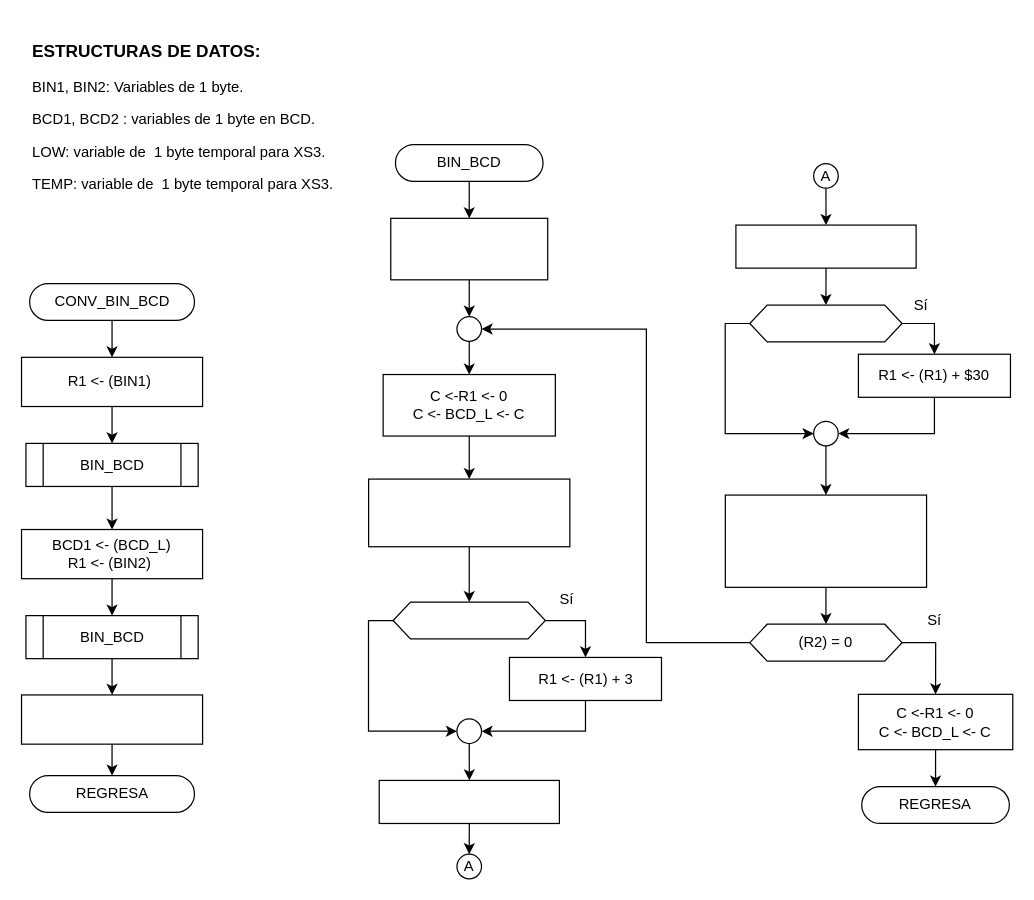
Image size: 1034x900. Some labels were removed from this diagram. The centre of each missing label's shape, as x and y in pixels:
(R1) >= $50: (825,323)
(R1) >= 5: (468,620)
BCD2 <- (BCD_L): (111,719)
LOW <- R1: (468,801)
R1 <- (BCD_L) && $F0: (825,246)
R1 <- (R1) + LOW BCD_L <- (R1) R1 <- (TEMP) R2 <- (R2) - 1: (825,540)
R2 <- 3 BCD_L <- 0: (469,248)
TEMP <- (R1) R1 <- (BCD_L) && $0F: (468,512)
